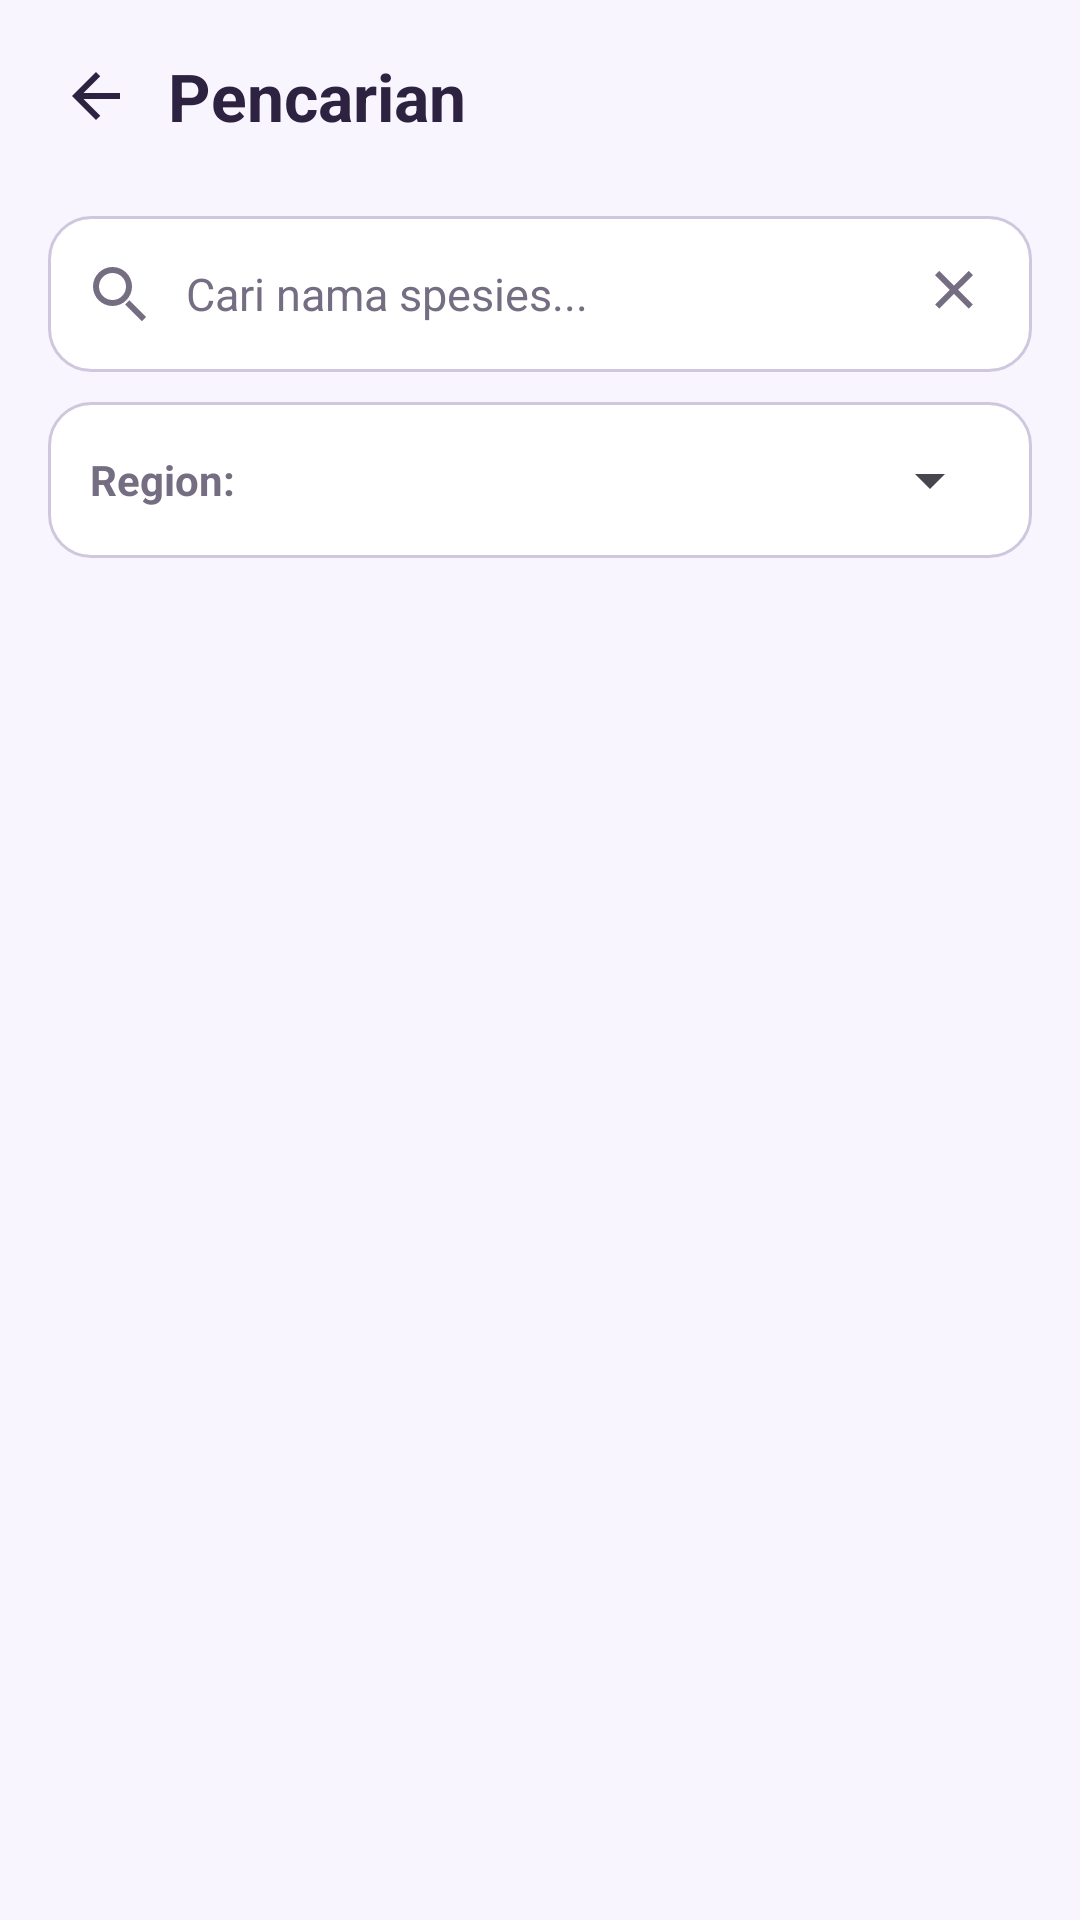

Named icons in this screenshot (1080*1920) and their centers, point (x, y):
Hapus pencarian: point (954, 290)
Kembali: point (96, 96)
